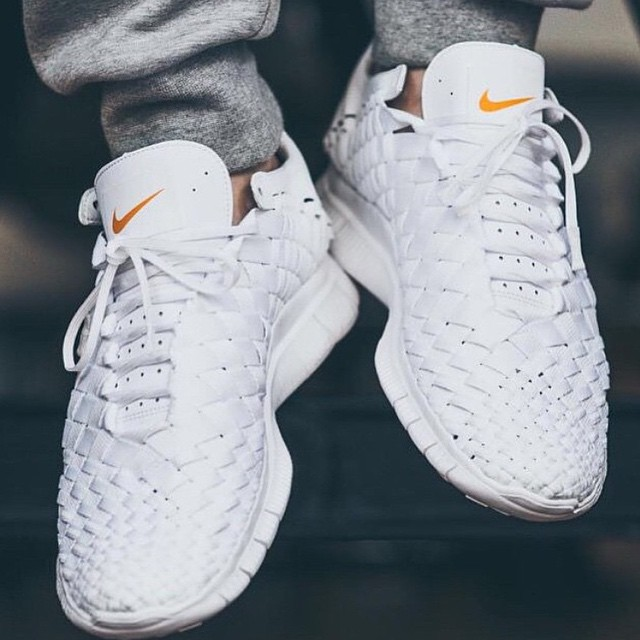sneaker: (21, 100, 378, 639), (298, 27, 630, 533)
